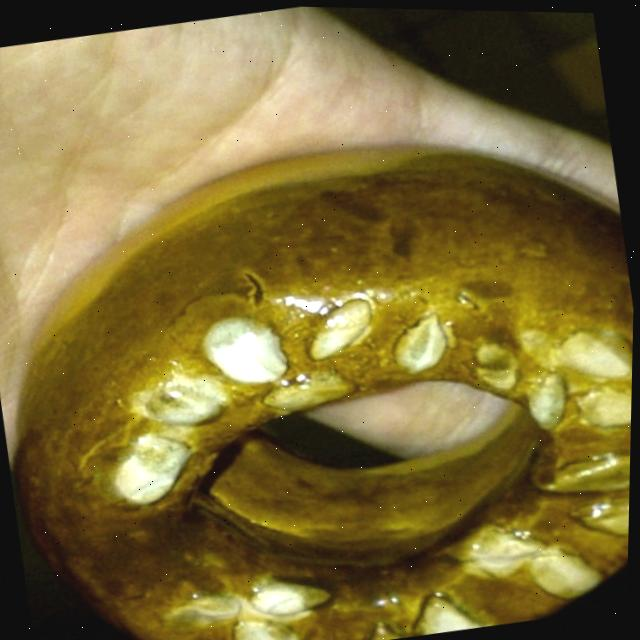炸货点心: (0, 78, 639, 640)
